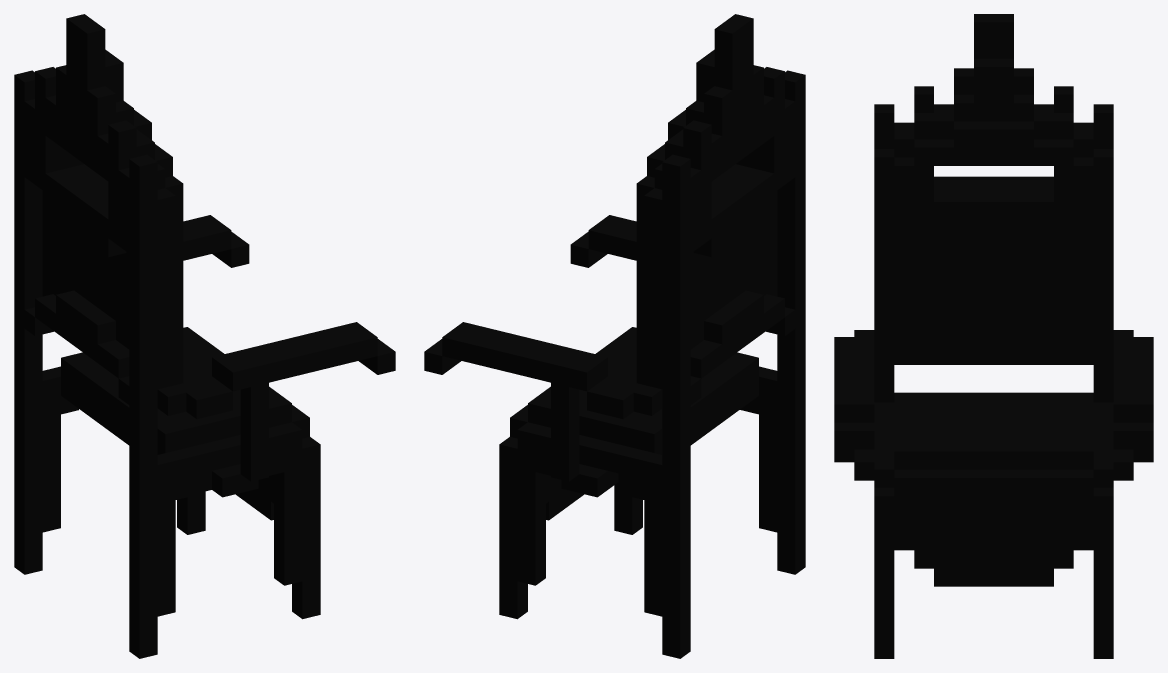
Rendered from Reschair_5.obj.
3 views of the same model, side by side, from view 1: azimuth 30°, elevation 25°; view 2: azimuth 150°, elevation 25°; view 3: azimuth 270°, elevation 25° (orthographic). The views are drawn at different scales.
Size of the model in its own units: 1.3 by 3.1 by 1.6.
